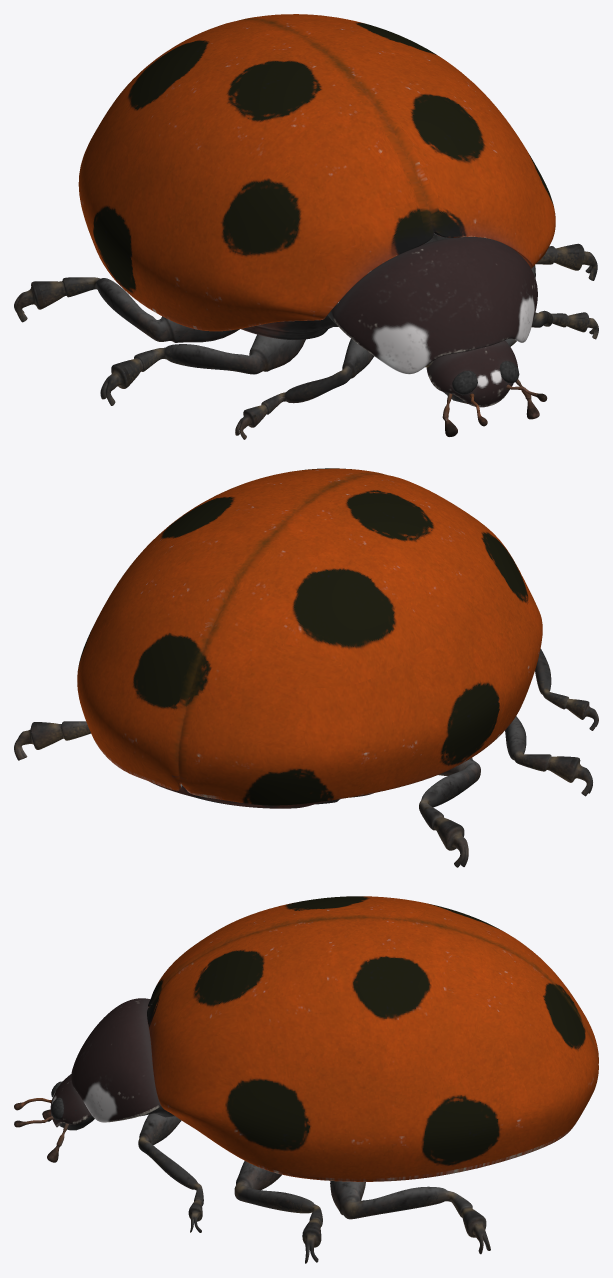
Rendered from Ladybug.glb.
3 views of the same model, one above another, from view 1: azimuth 30°, elevation 25°; view 2: azimuth 150°, elevation 25°; view 3: azimuth 270°, elevation 25° (orthographic). The views are drawn at different scales.
Visible parts, largest first — view 1: Shell Neck.002_underbelly_0.001, Shell Neck.002; view 2: Shell Neck.002_underbelly_0.001, Shell Neck.002; view 3: Shell Neck.002_underbelly_0.001, Shell Neck.002.
Part boxes in pixels (box(x1,y1,x2,y2)): Shell Neck.002_underbelly_0.001: box(78, 14, 555, 407); Shell Neck.002: box(14, 243, 598, 439); Shell Neck.002_underbelly_0.001: box(77, 468, 542, 808); Shell Neck.002: box(14, 649, 598, 867); Shell Neck.002_underbelly_0.001: box(50, 896, 598, 1181); Shell Neck.002: box(14, 1081, 490, 1263).
Size of the model in its own units: 5.64 by 2.91 by 6.4.
Materials: 1 (1 with a texture image).
